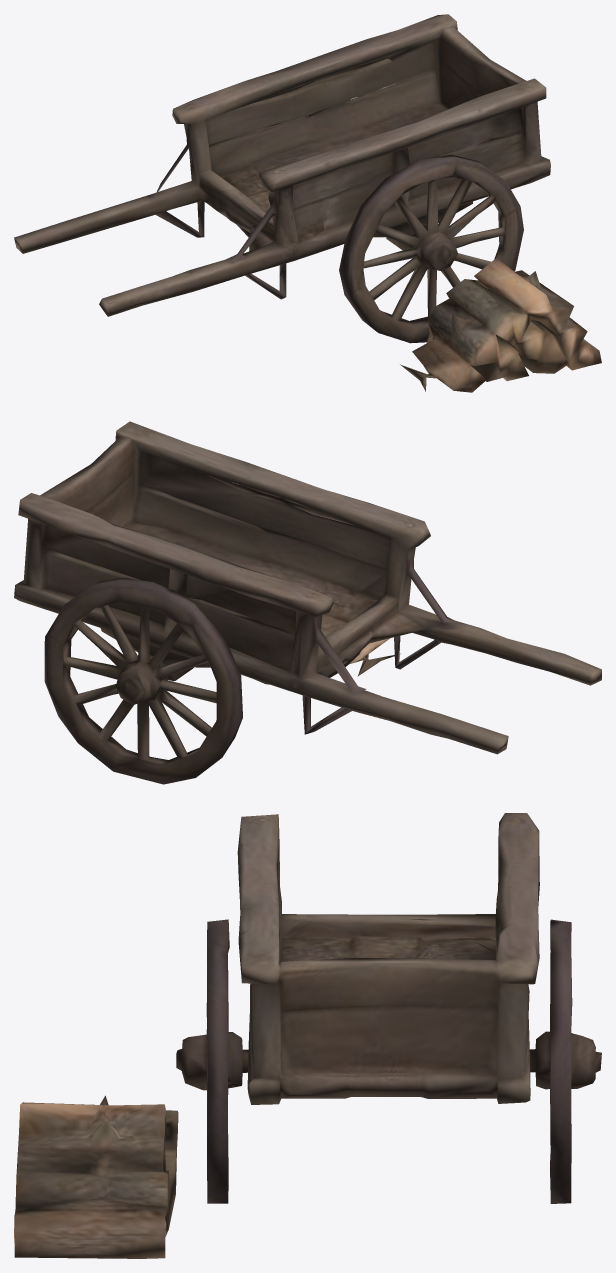
Rendered from handcart.glb.
The picture shows the model from 3 angles, top to bottom: view 1: azimuth 30°, elevation 25°; view 2: azimuth 150°, elevation 25°; view 3: azimuth 270°, elevation 25°; orthographic projection. The views are drawn at different scales.
Parts seen in each view (by area): view 1: tripo_node_9311eb9a-6883-4ebb-8573-cd6c855aedf1; view 2: tripo_node_9311eb9a-6883-4ebb-8573-cd6c855aedf1; view 3: tripo_node_9311eb9a-6883-4ebb-8573-cd6c855aedf1.
Part boxes in pixels (x1,y1,x2,y2): tripo_node_9311eb9a-6883-4ebb-8573-cd6c855aedf1: (14,14,601,392); tripo_node_9311eb9a-6883-4ebb-8573-cd6c855aedf1: (14,421,601,784); tripo_node_9311eb9a-6883-4ebb-8573-cd6c855aedf1: (14,813,601,1258).
Bounding box in the file's own units: 0.9643 × 0.4491 × 0.7701.
1 material, 1 textured.
